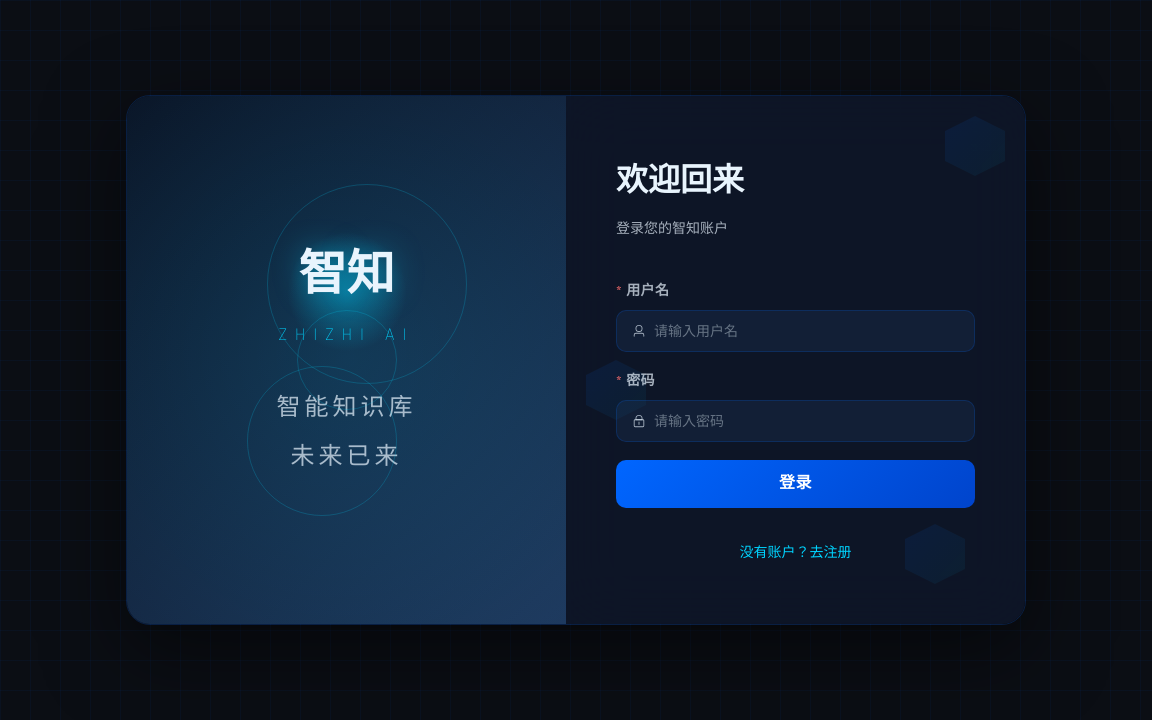
Login › shows email input in register mode
This screenshot has width=1152, height=720.
Note: Click the toggle link to switch to register
Step 1. Click the link "没有账户？去注册" → (796, 553), box [740,542,852,564]
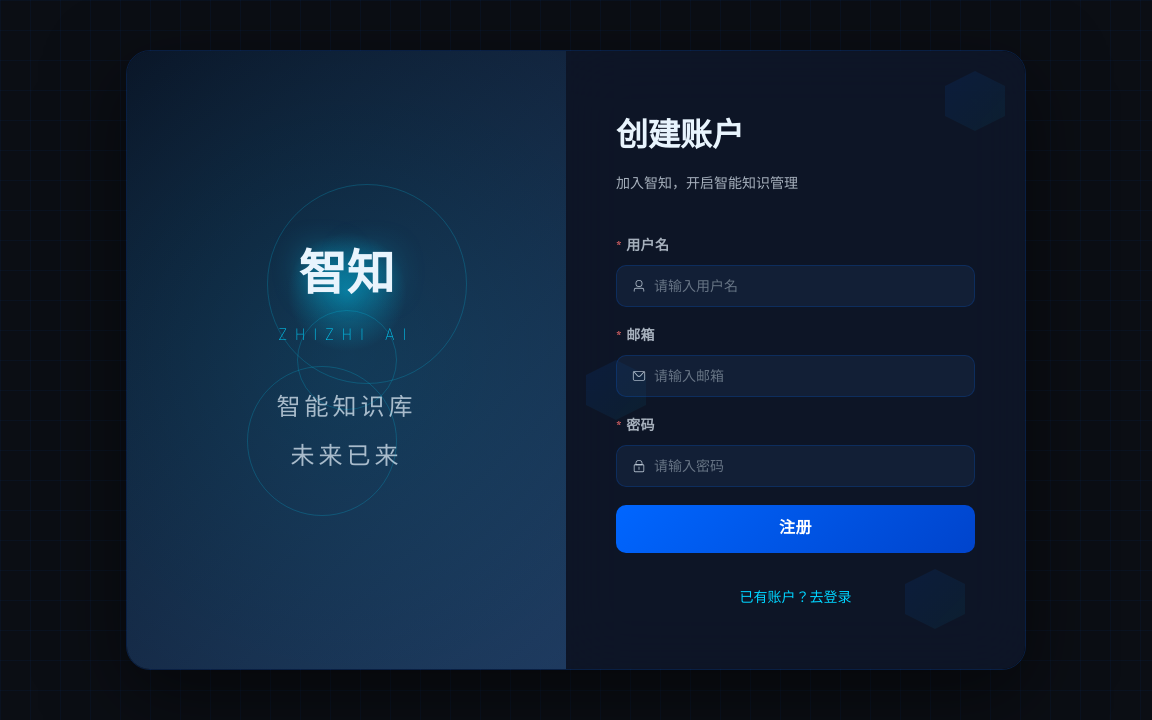
Check: the text "邮箱" is shown, box [616,325,667,347]
